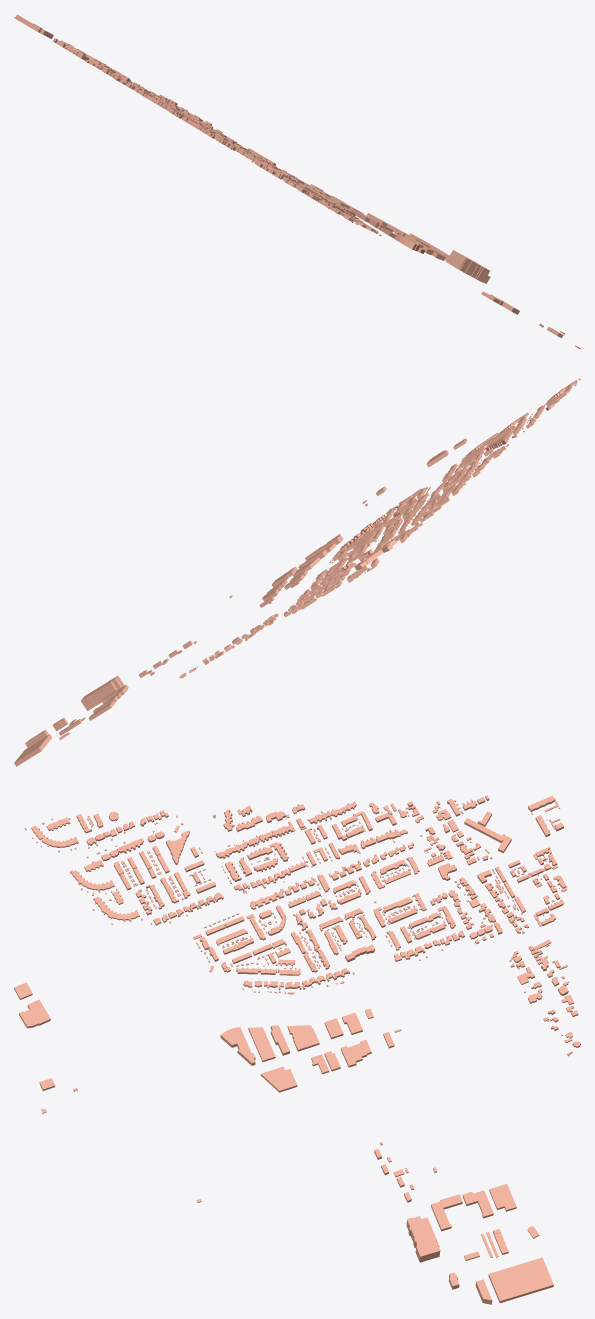
3 views of the same model, one above another, from view 1: azimuth 30°, elevation 25°; view 2: azimuth 150°, elevation 25°; view 3: azimuth 270°, elevation 25° (orthographic). The views are drawn at different scales.
Size of the model in its own units: 1002 by 760 by 1226.
